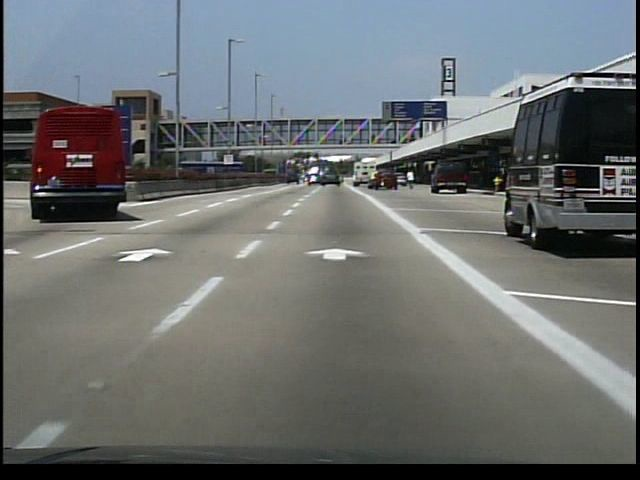person: (405, 169, 419, 191)
